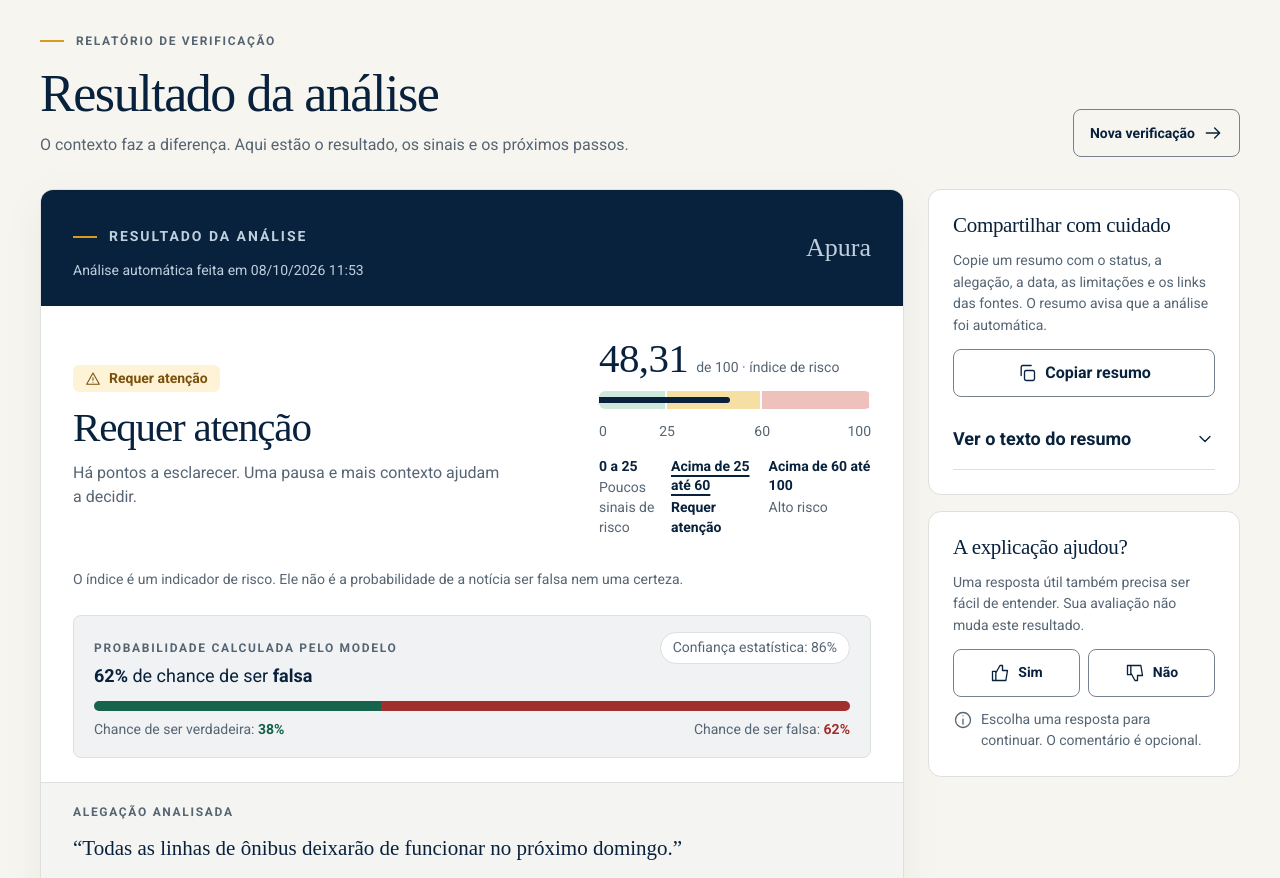
Test case: RF19: feedback › gateway real: envia id, avaliação e comentário (e só isso), e agradece de verdade
The image size is (1280, 878).
Click the button "Sim" at (1016, 673), box [953, 649, 1080, 697]
(page scrolled)
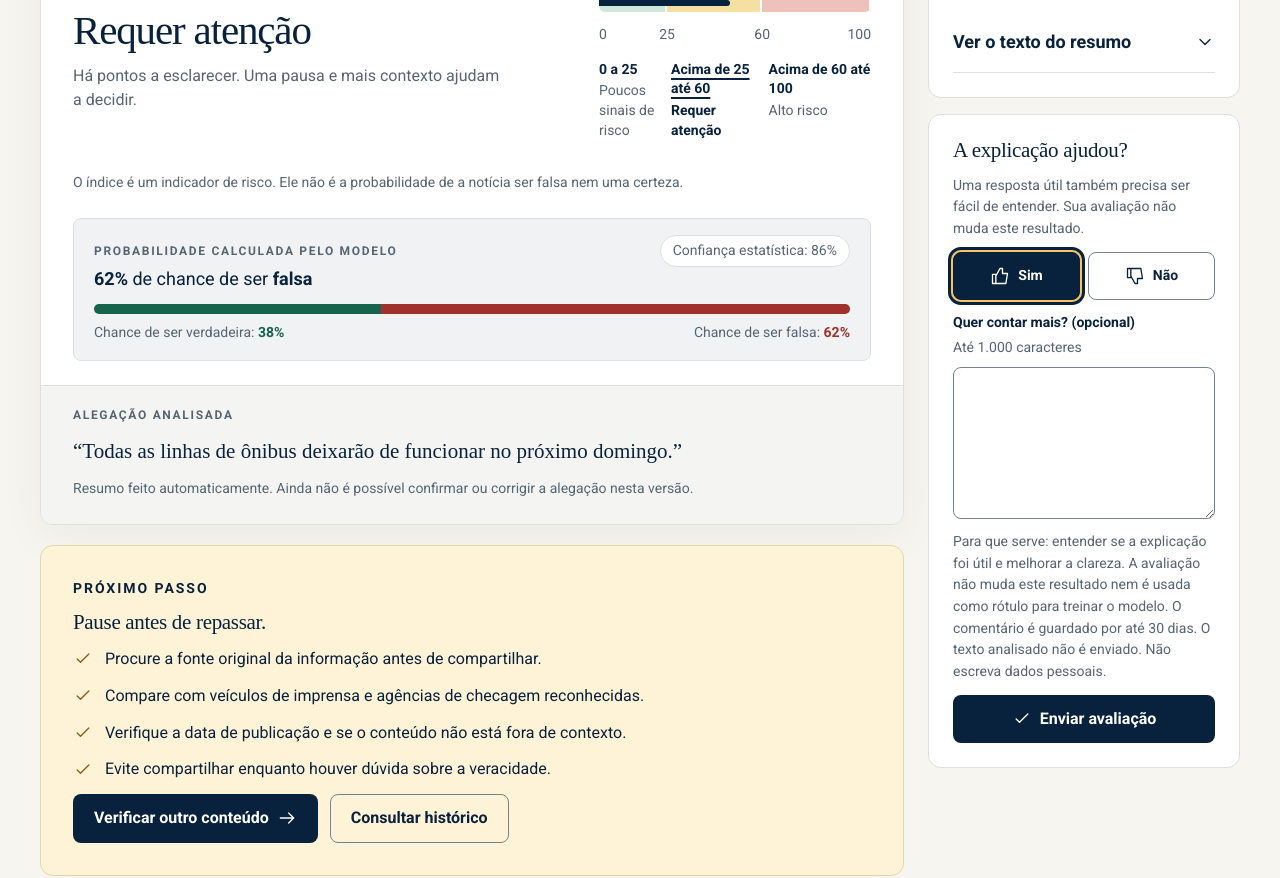
Now the text "O texto analisado não é enviado" is shown, box [953, 533, 1210, 679]
Type "  Entendi bem.  " into the text box labelled "Quer contar mais? (opcional)" at (1084, 443), box [953, 367, 1215, 519]
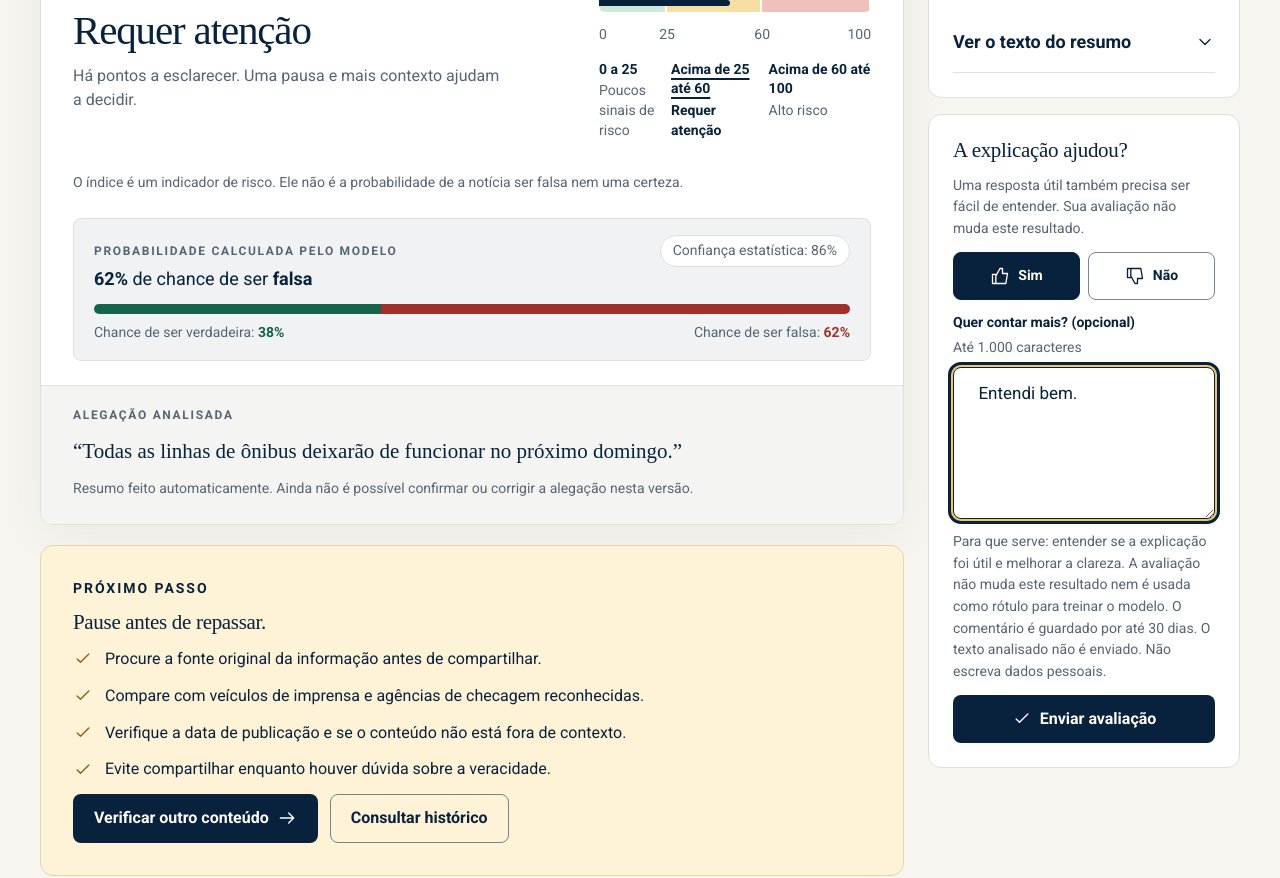
Click the button "Enviar avaliação" at (1084, 719), box [953, 695, 1215, 743]
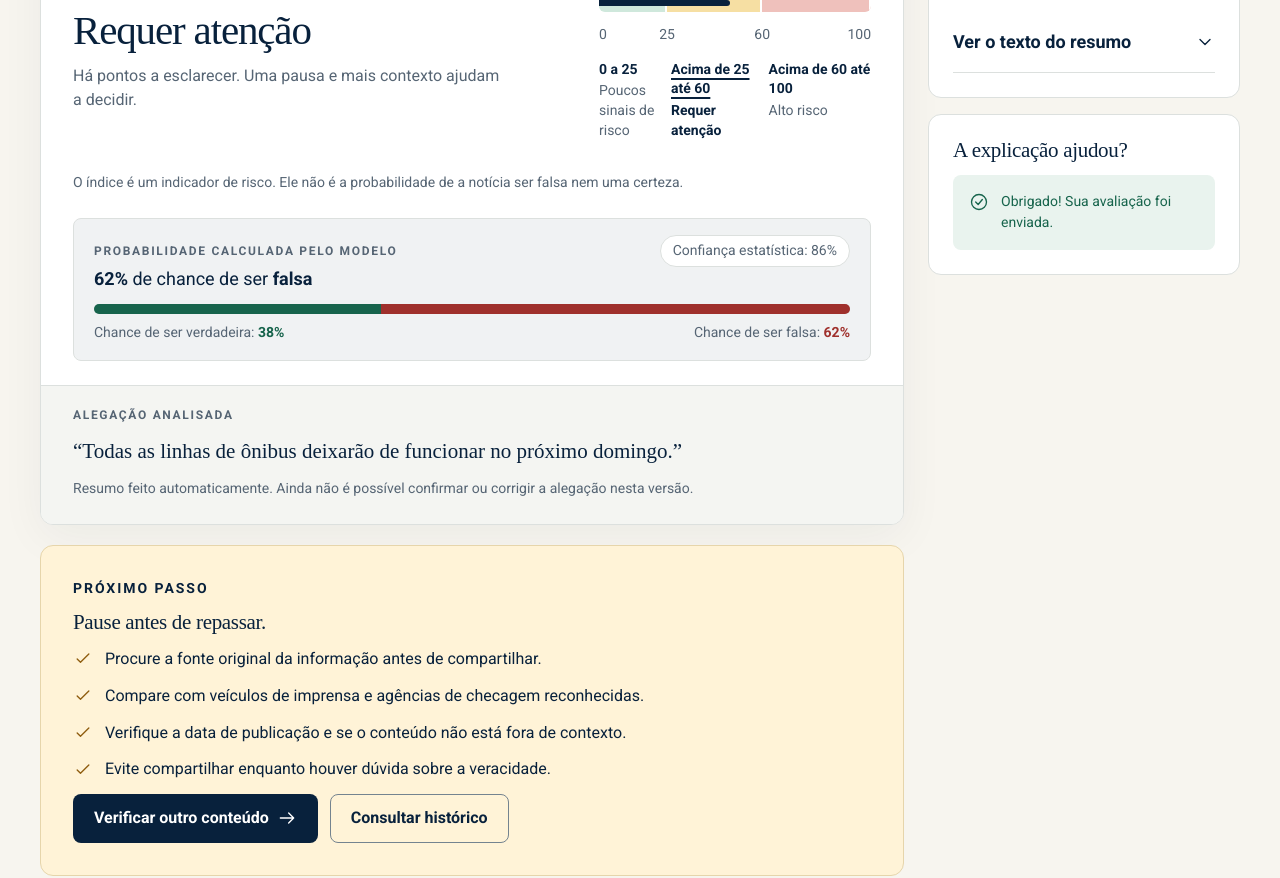
Now the text "Obrigado! Sua avaliação foi enviada." is shown, box [1001, 190, 1199, 234]
